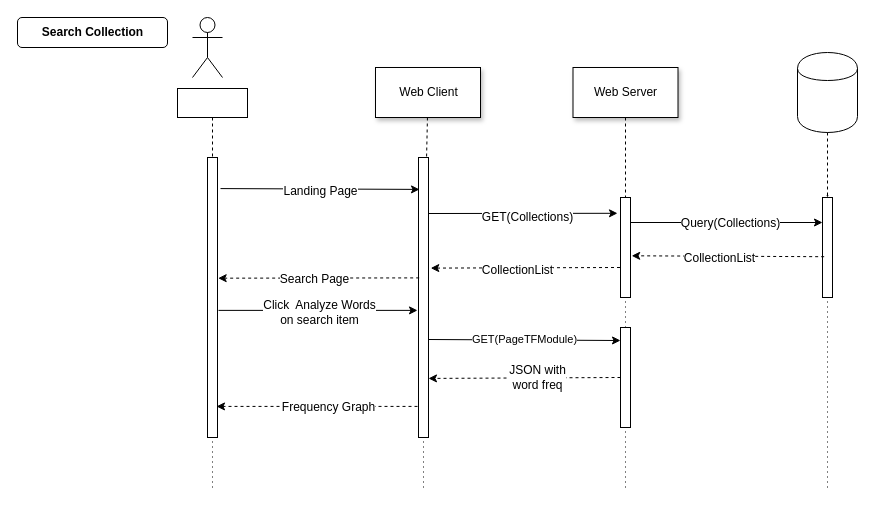
The diagram is 875 pixels wide and 506 high, and some of its shapes have lost their labels. The shapes that lost their labels are listed below. From the top down, each one's centre as x and y in pixels, then its label:
At point 212,103: "User".
At point 827,92: "MySQL".
